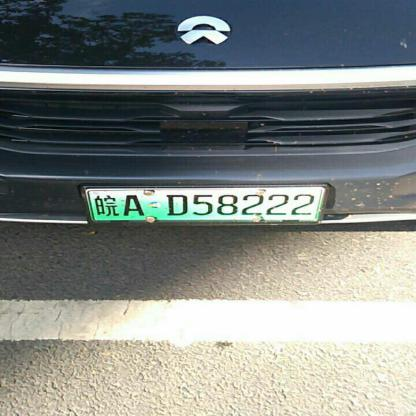lp: (86, 184, 324, 221)
